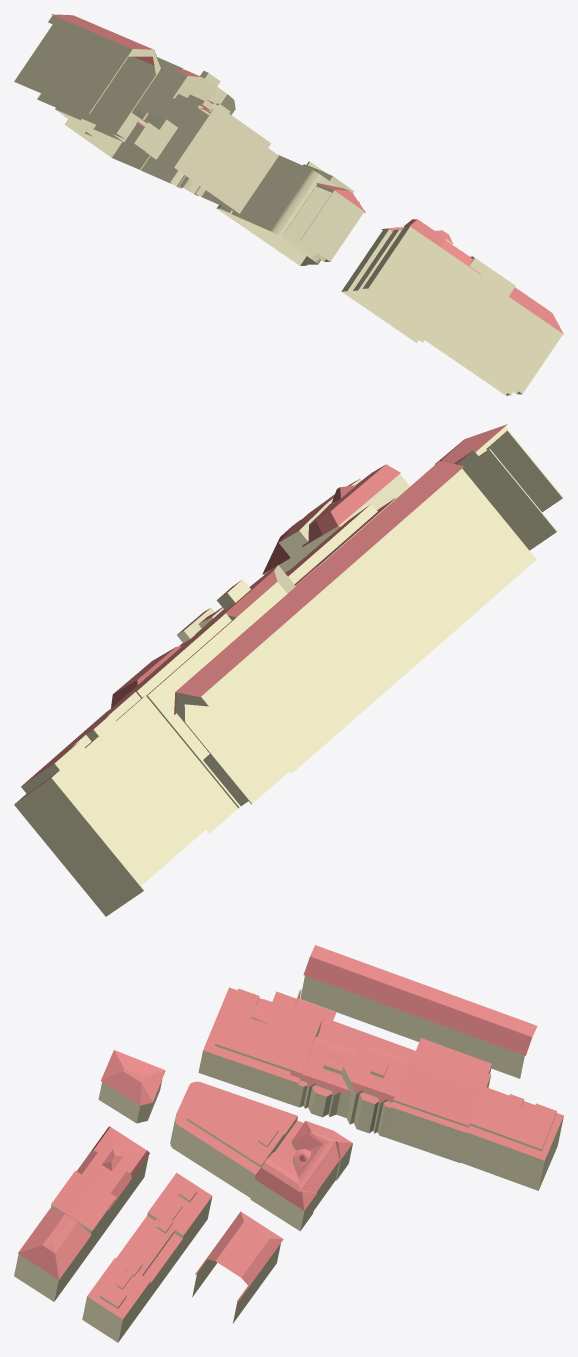
The model's file is tile_073.glb.
The picture shows the model from 3 angles, top to bottom: view 1: azimuth 30°, elevation 25°; view 2: azimuth 150°, elevation 25°; view 3: azimuth 270°, elevation 25°; orthographic projection. The views are drawn at different scales.
Parts seen in each view (by area): view 1: Batched_Building_ID_5A553D1E-7F04-4138-B9F1-C2D9A140BAA6; view 2: Batched_Building_ID_5A553D1E-7F04-4138-B9F1-C2D9A140BAA6; view 3: Batched_Building_ID_5A553D1E-7F04-4138-B9F1-C2D9A140BAA6.
Part boxes in pixels (x1,y1,x2,y2): Batched_Building_ID_5A553D1E-7F04-4138-B9F1-C2D9A140BAA6: (14,14,563,395); Batched_Building_ID_5A553D1E-7F04-4138-B9F1-C2D9A140BAA6: (14,424,563,916); Batched_Building_ID_5A553D1E-7F04-4138-B9F1-C2D9A140BAA6: (14,945,563,1342).
Bounding box in the file's own units: 125 × 112 × 195.
